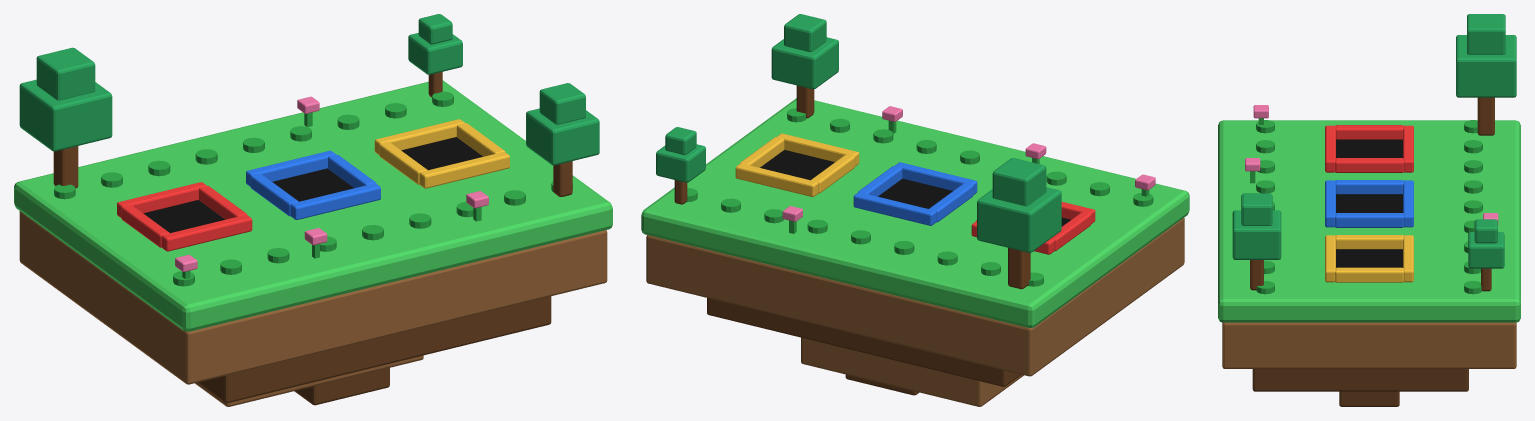
The model's file is island.glb.
3 renders of one model, left to right at view 1: azimuth 30°, elevation 25°; view 2: azimuth 150°, elevation 25°; view 3: azimuth 270°, elevation 25°, orthographic. The views are drawn at different scales.
Visible parts, largest first — view 1: Island; view 2: Island; view 3: Island.
Boxes of the visible parts, left/top/right/bottom form: Island: left=14, top=14, right=612, bottom=406; Island: left=641, top=14, right=1189, bottom=406; Island: left=1218, top=14, right=1520, bottom=406.
Size of the model in its own units: 1 by 0.725 by 0.7.
